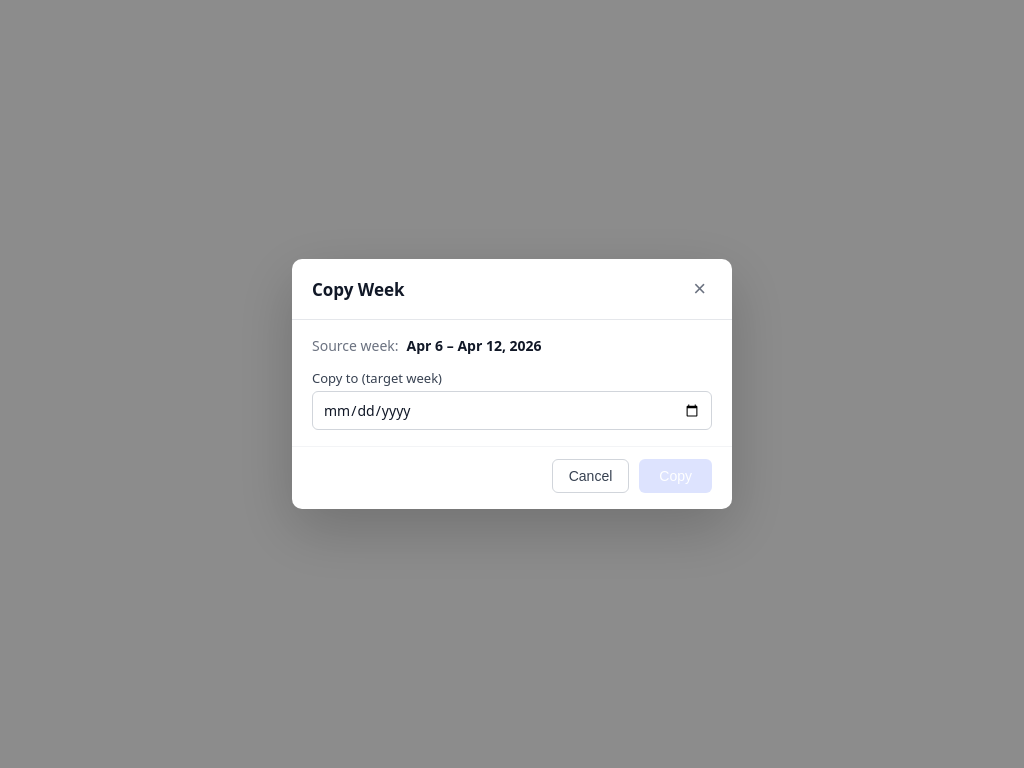
it: CopyWeekModal — Copy Week › shows a loading state while the copy request is in flight
Type "2026-04-13" into the date field labelled "Copy to (target week)". click: (512, 410)
box: [312, 391, 712, 430]
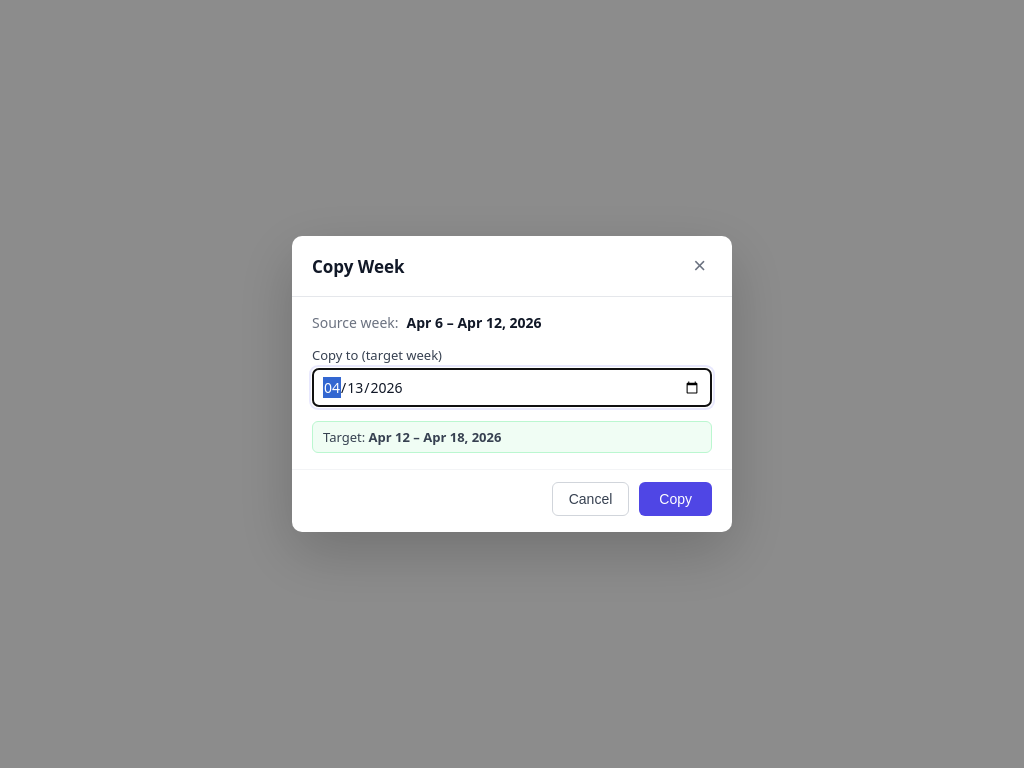
Click the button "Copy". click: (676, 499)
box: [639, 482, 712, 516]
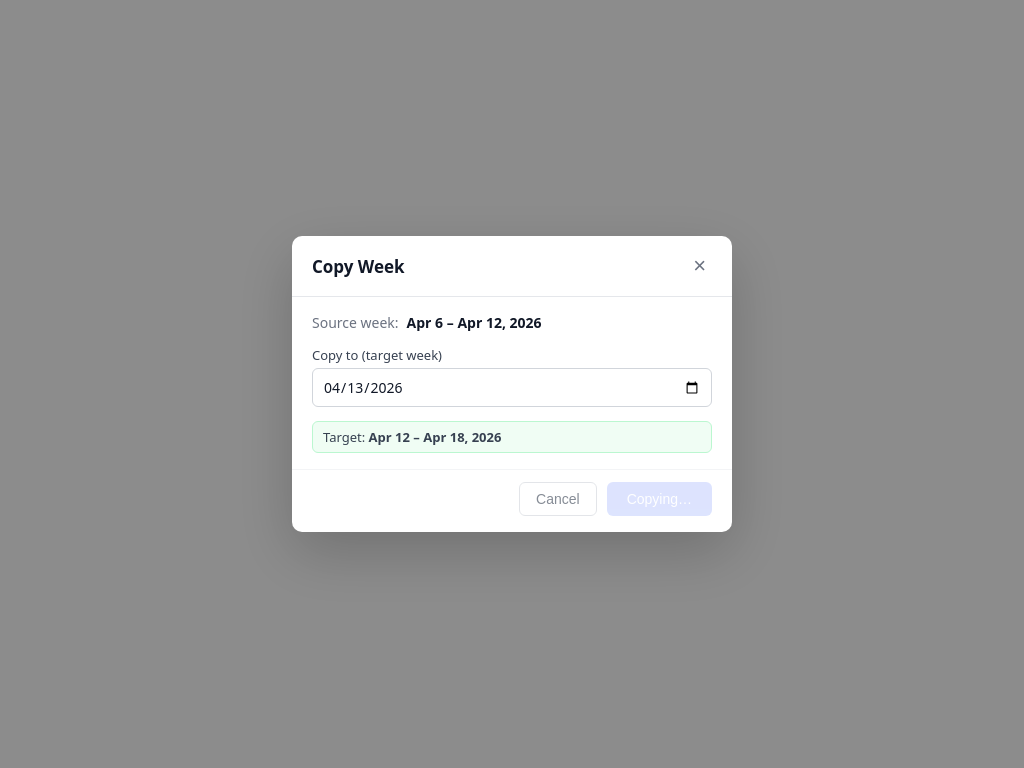
Expected: the button "Copying…" is shown, [607, 482, 712, 516]
